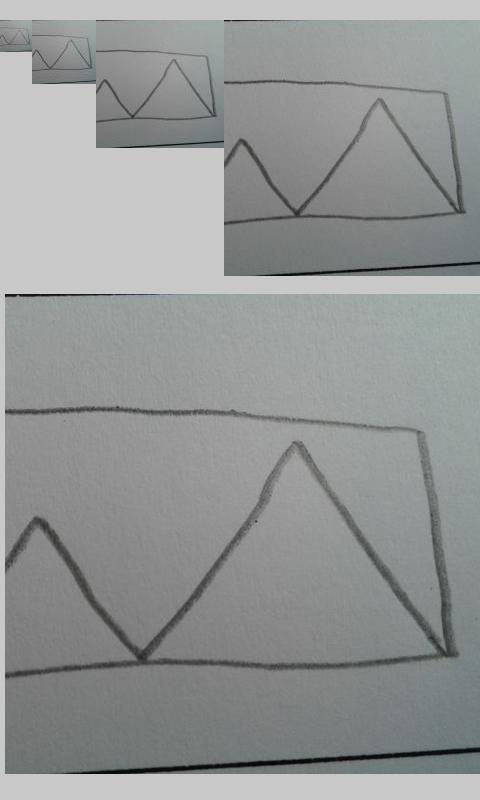image_view: (9, 403, 458, 684), (224, 80, 465, 225), (96, 47, 218, 123), (32, 34, 92, 72), (1, 26, 31, 46)
